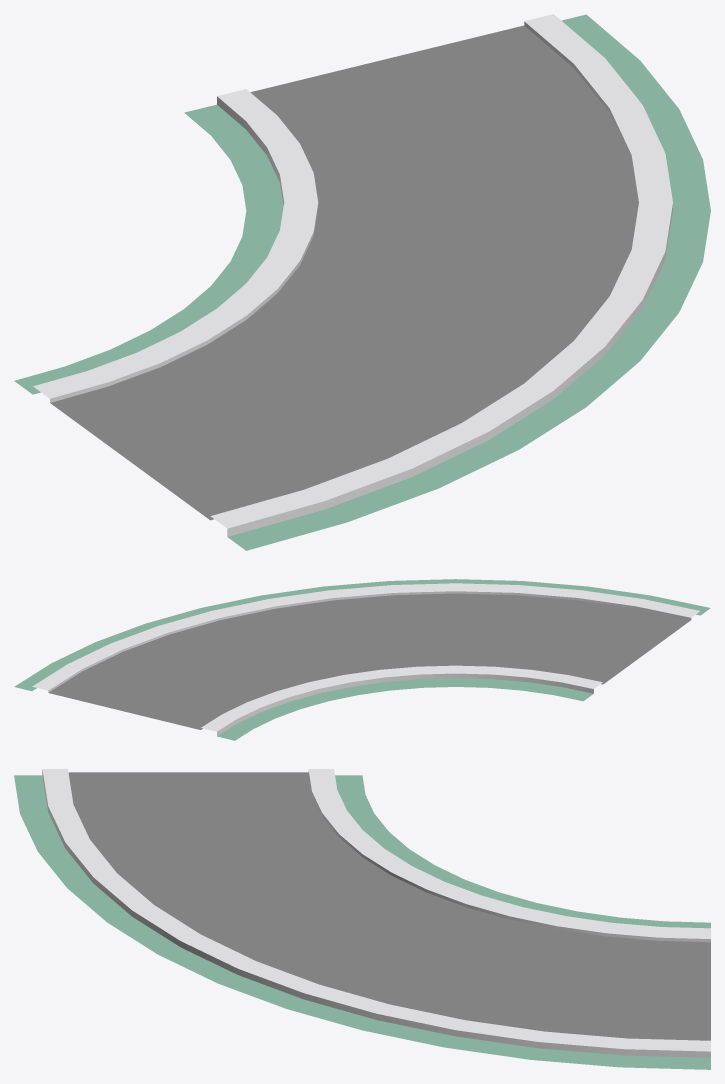
The picture shows the model from 3 angles, top to bottom: view 1: azimuth 30°, elevation 25°; view 2: azimuth 150°, elevation 25°; view 3: azimuth 270°, elevation 25°; orthographic projection. The views are drawn at different scales.
Visible parts, largest first — view 1: roadCornerLarge; view 2: roadCornerLarge; view 3: roadCornerLarge.
Boxes of the visible parts, left/top/right/bottom form: roadCornerLarge: left=14, top=14, right=710, bottom=550; roadCornerLarge: left=14, top=579, right=710, bottom=740; roadCornerLarge: left=14, top=769, right=710, bottom=1069.
Size of the model in its own units: 20 by 0.2 by 20.
